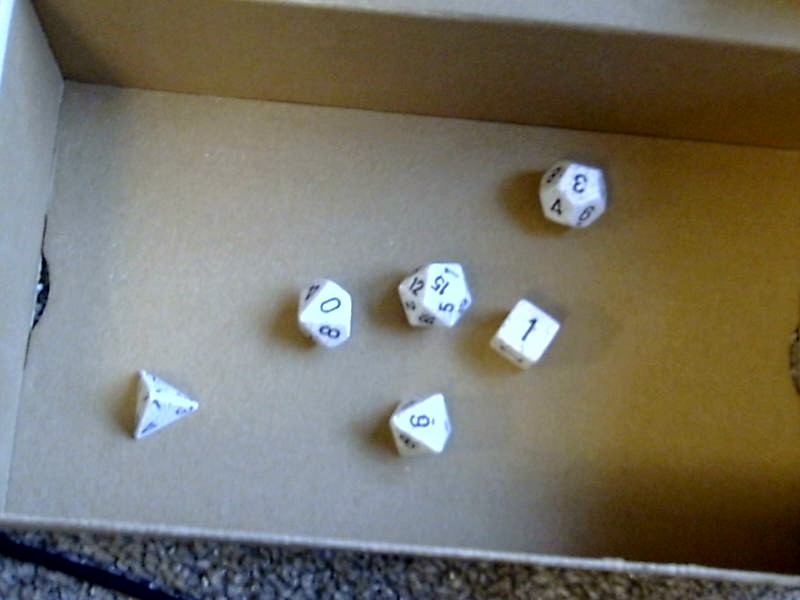d10 10: (290, 269, 354, 354)
d12 3: (534, 156, 615, 235)
d20 15: (391, 254, 477, 332)
d4 1: (124, 366, 203, 449)
d6 1: (486, 295, 565, 379)
d8 6: (383, 391, 454, 466)
